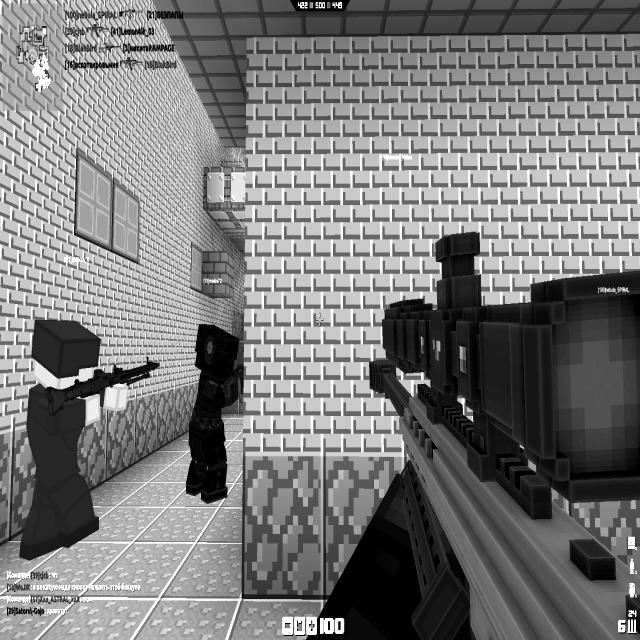Head: (31, 318, 101, 390), (194, 323, 240, 380), (26, 46, 38, 66)
Player: (19, 317, 160, 561), (185, 322, 244, 503)
